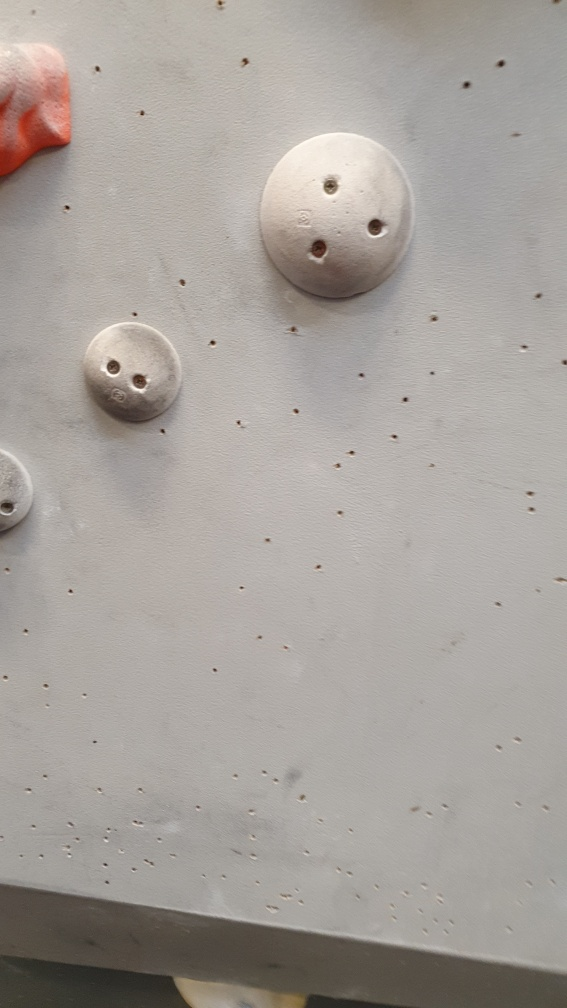Sloper: (257, 127, 419, 312), (83, 319, 188, 425), (1, 446, 39, 539)
